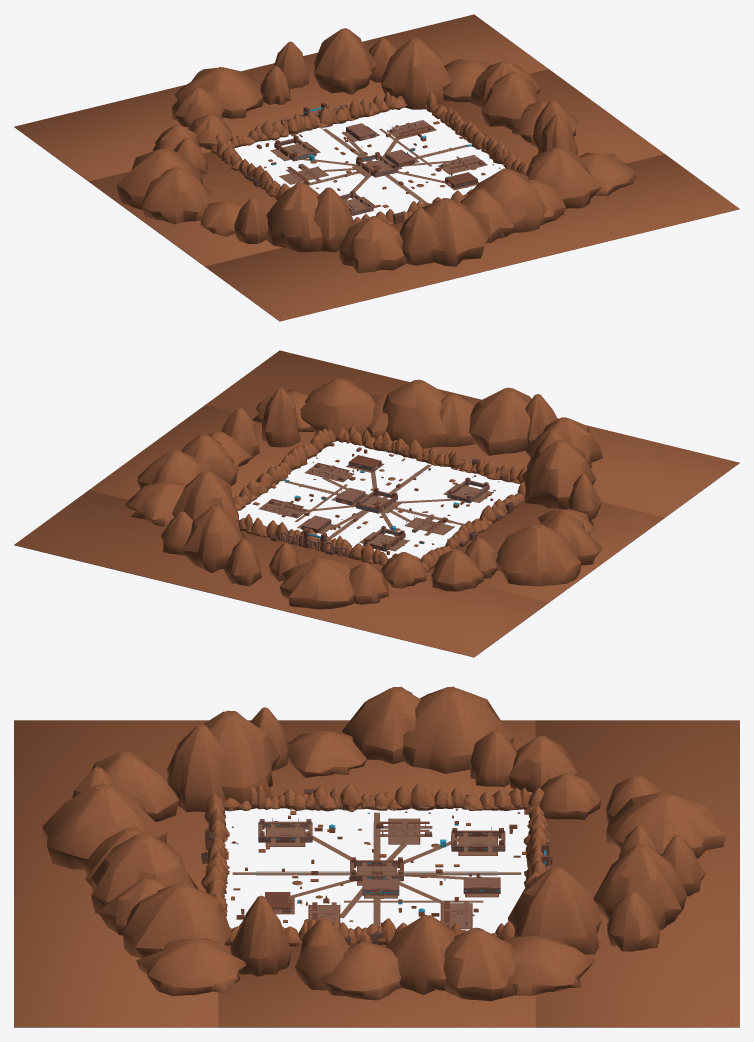
Rendered from kyokoku-lod0.glb.
3 views of the same model, one above another, from view 1: azimuth 30°, elevation 25°; view 2: azimuth 150°, elevation 25°; view 3: azimuth 270°, elevation 25° (orthographic). The views are drawn at different scales.
Parts seen in each view (by area): view 1: HB_kyokoku_LOD0_terrain, HB_kyokoku_LOD0_road, HB_kyokoku_LOD0_wall, HB_kyokoku_LOD0_wall_alt; view 2: HB_kyokoku_LOD0_terrain, HB_kyokoku_LOD0_road, HB_kyokoku_LOD0_wall, HB_kyokoku_LOD0_wall_alt, HB_kyokoku_LOD0_obstacle; view 3: HB_kyokoku_LOD0_terrain, HB_kyokoku_LOD0_road, HB_kyokoku_LOD0_wall_alt, HB_kyokoku_LOD0_wall, HB_kyokoku_LOD0_natural, HB_kyokoku_LOD0_obstacle, HB_kyokoku_LOD0_trim.
Boxes of the visible parts, <box> form: HB_kyokoku_LOD0_terrain: <box>14,14,739,321</box>; HB_kyokoku_LOD0_road: <box>271,122,486,209</box>; HB_kyokoku_LOD0_wall: <box>274,104,484,215</box>; HB_kyokoku_LOD0_wall_alt: <box>231,102,487,224</box>; HB_kyokoku_LOD0_terrain: <box>14,350,739,657</box>; HB_kyokoku_LOD0_road: <box>260,464,492,550</box>; HB_kyokoku_LOD0_wall: <box>261,456,489,557</box>; HB_kyokoku_LOD0_wall_alt: <box>259,439,513,563</box>; HB_kyokoku_LOD0_obstacle: <box>252,440,496,557</box>; HB_kyokoku_LOD0_terrain: <box>14,686,739,1027</box>; HB_kyokoku_LOD0_road: <box>232,812,521,929</box>; HB_kyokoku_LOD0_wall_alt: <box>201,790,552,945</box>; HB_kyokoku_LOD0_wall: <box>258,819,549,928</box>; HB_kyokoku_LOD0_natural: <box>225,797,529,923</box>; HB_kyokoku_LOD0_obstacle: <box>226,809,529,922</box>; HB_kyokoku_LOD0_trim: <box>201,789,552,944</box>.
Bounding box in the file's own units: 746 × 85.99 × 746.
Materials: 9 (8 with a texture image).
